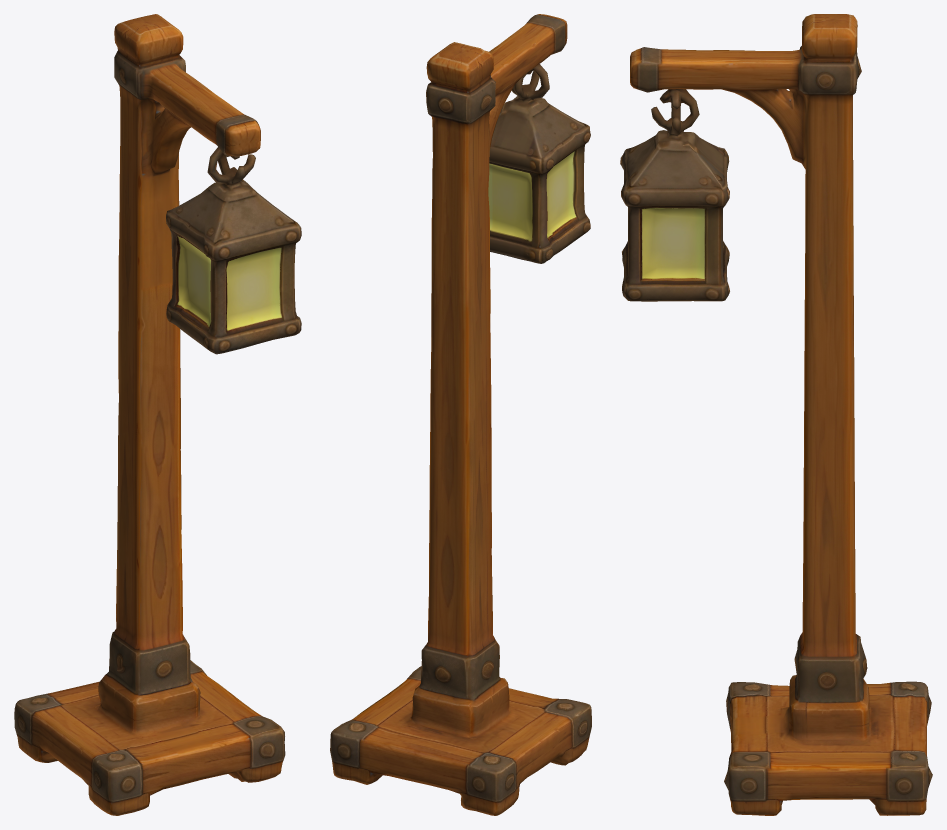
File: home_lantern.glb
3 renders of one model, left to right at view 1: azimuth 30°, elevation 25°; view 2: azimuth 150°, elevation 25°; view 3: azimuth 270°, elevation 25°, orthographic. The views are drawn at different scales.
Parts seen in each view (by area): view 1: tripo_node_84a8c7e2; view 2: tripo_node_84a8c7e2; view 3: tripo_node_84a8c7e2.
Boxes of the visible parts, <box> form: tripo_node_84a8c7e2: <box>14,14,301,815</box>; tripo_node_84a8c7e2: <box>330,14,591,815</box>; tripo_node_84a8c7e2: <box>620,14,932,815</box>.
Bounding box in the file's own units: 25.33 × 97.92 × 36.79.
Materials: 1 (1 with a texture image).
